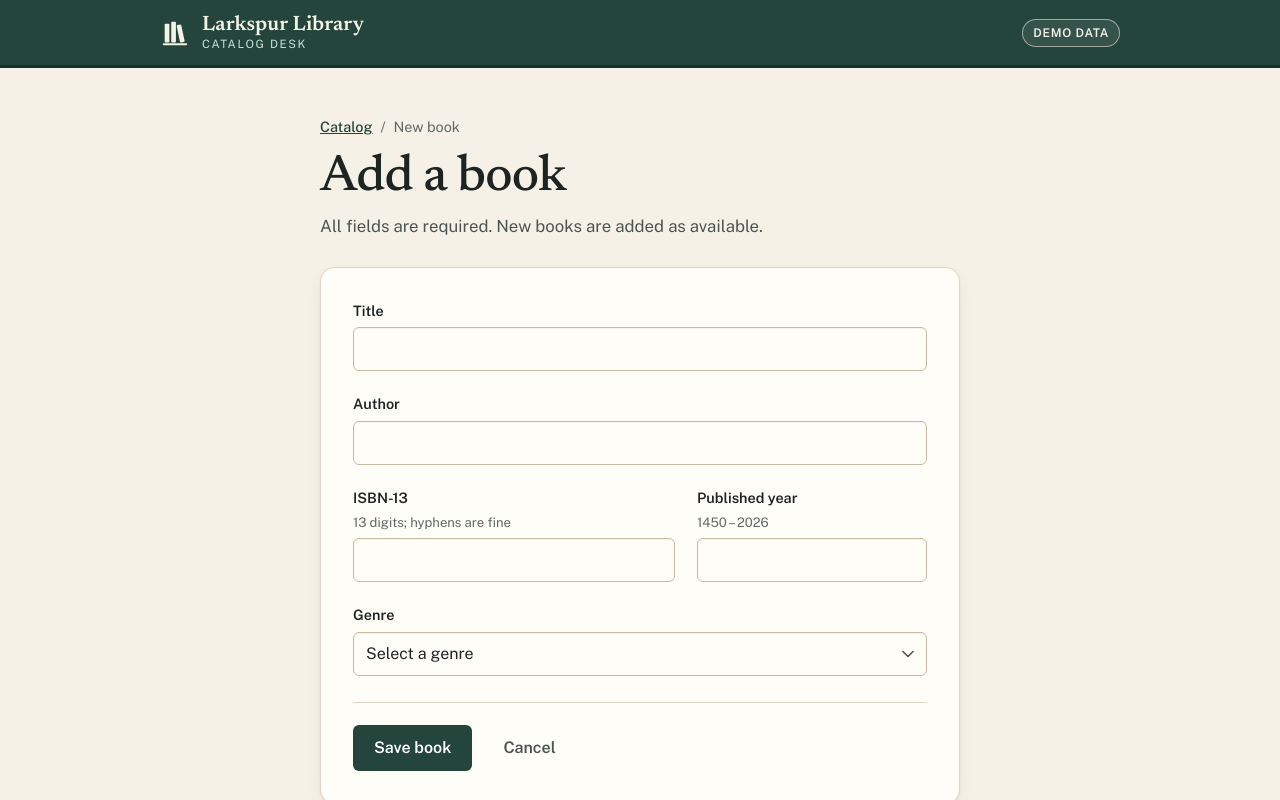
AddBookPage › FE-AC7: shows the duplicate-ISBN message under the ISBN field
The width and height of the screenshot is (1280, 800).
In the field labelled "Title": x=640, y=349 [353,327,927,371], type "Dune"
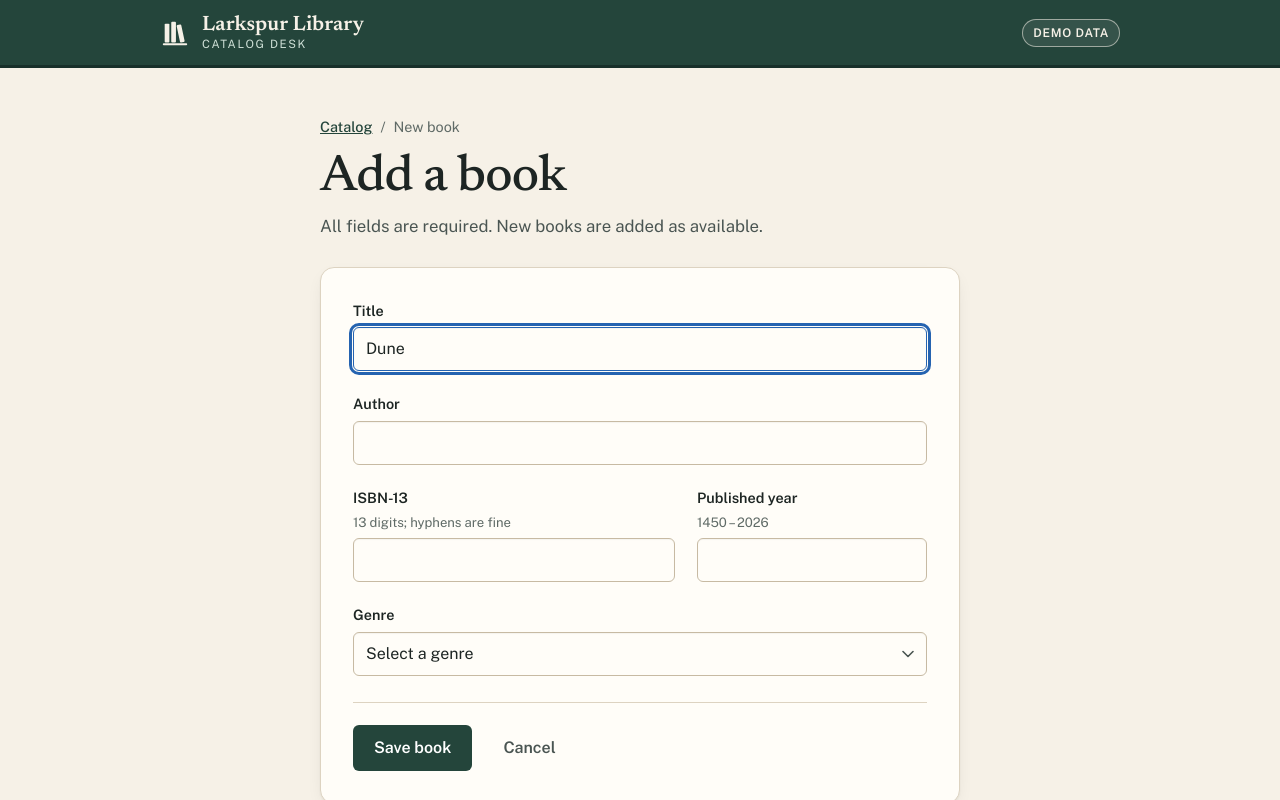
In the field labelled "Author": x=640, y=443 [353,421,927,465], type "Frank Herbert"
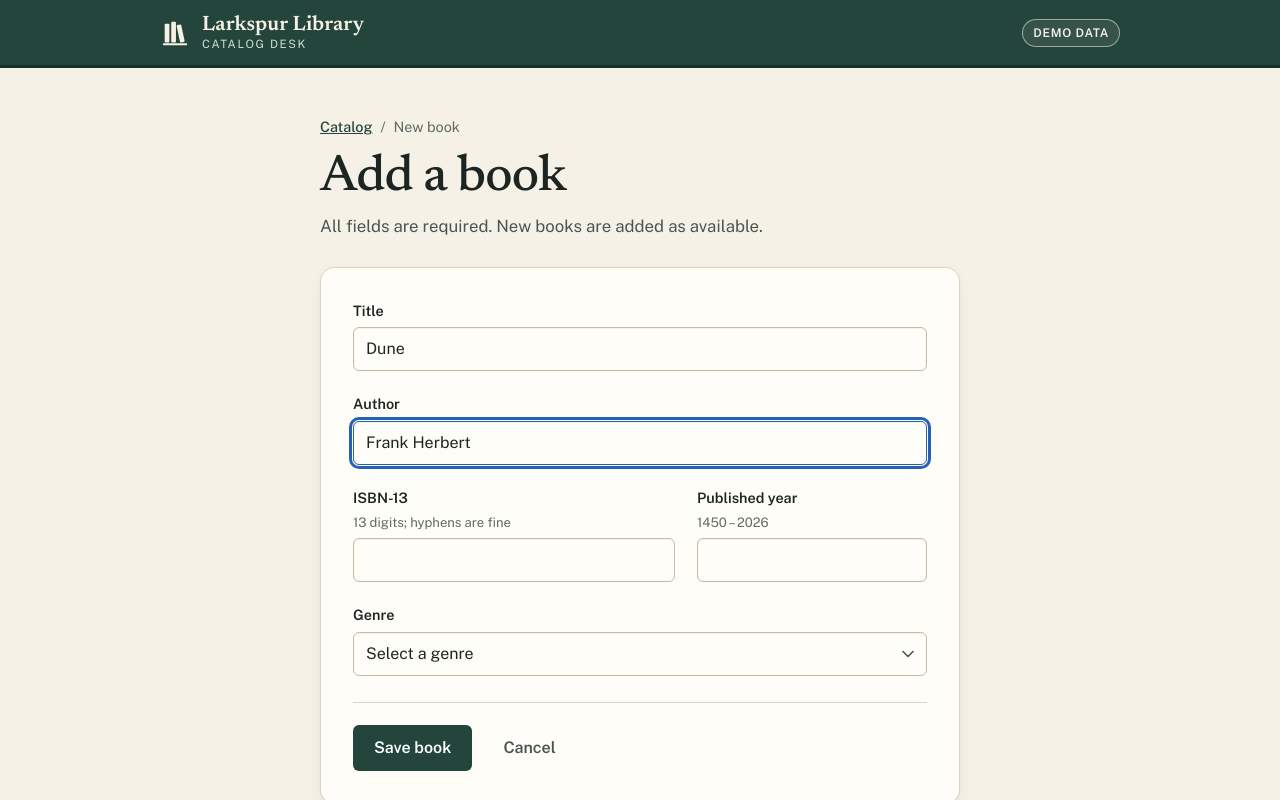
In the field labelled "ISBN-13": x=514, y=560 [353,538,675,582], type "9780061120084"
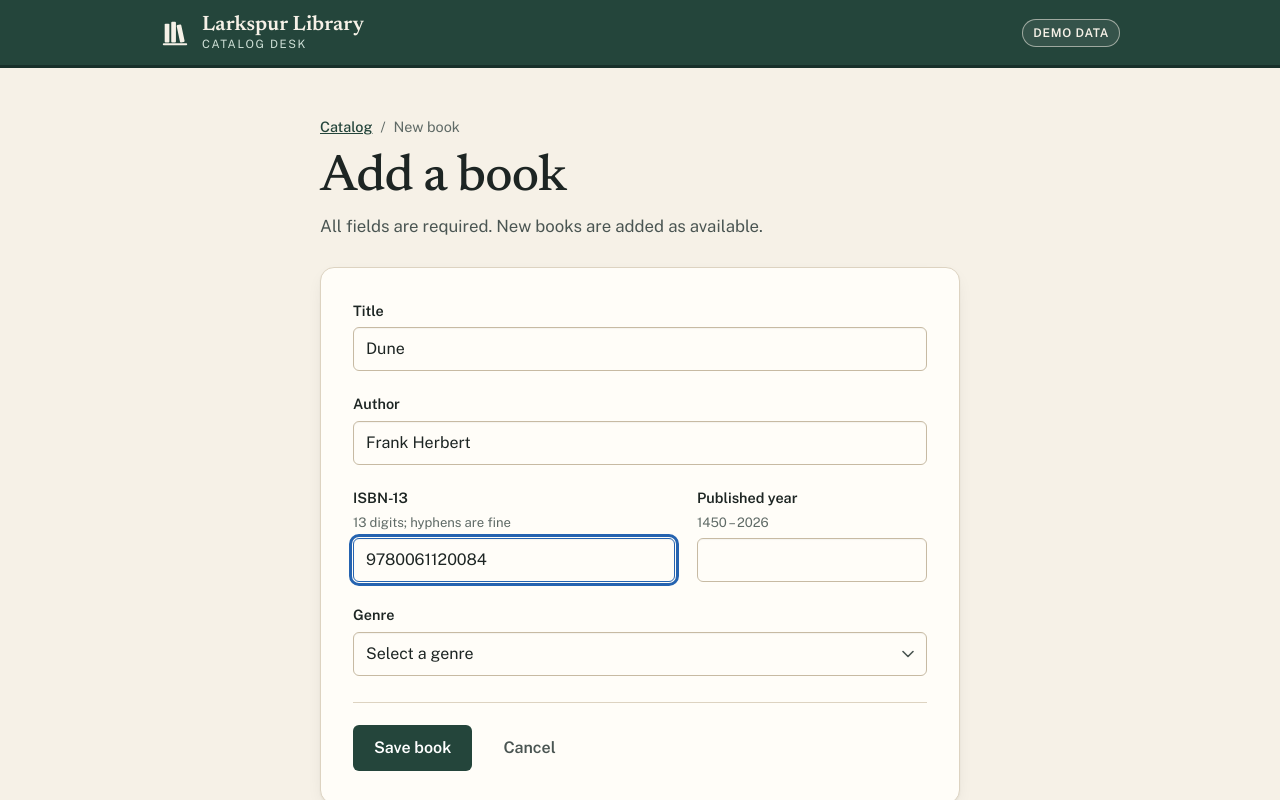
In the field labelled "Published year": x=812, y=560 [697,538,927,582], type "1965"
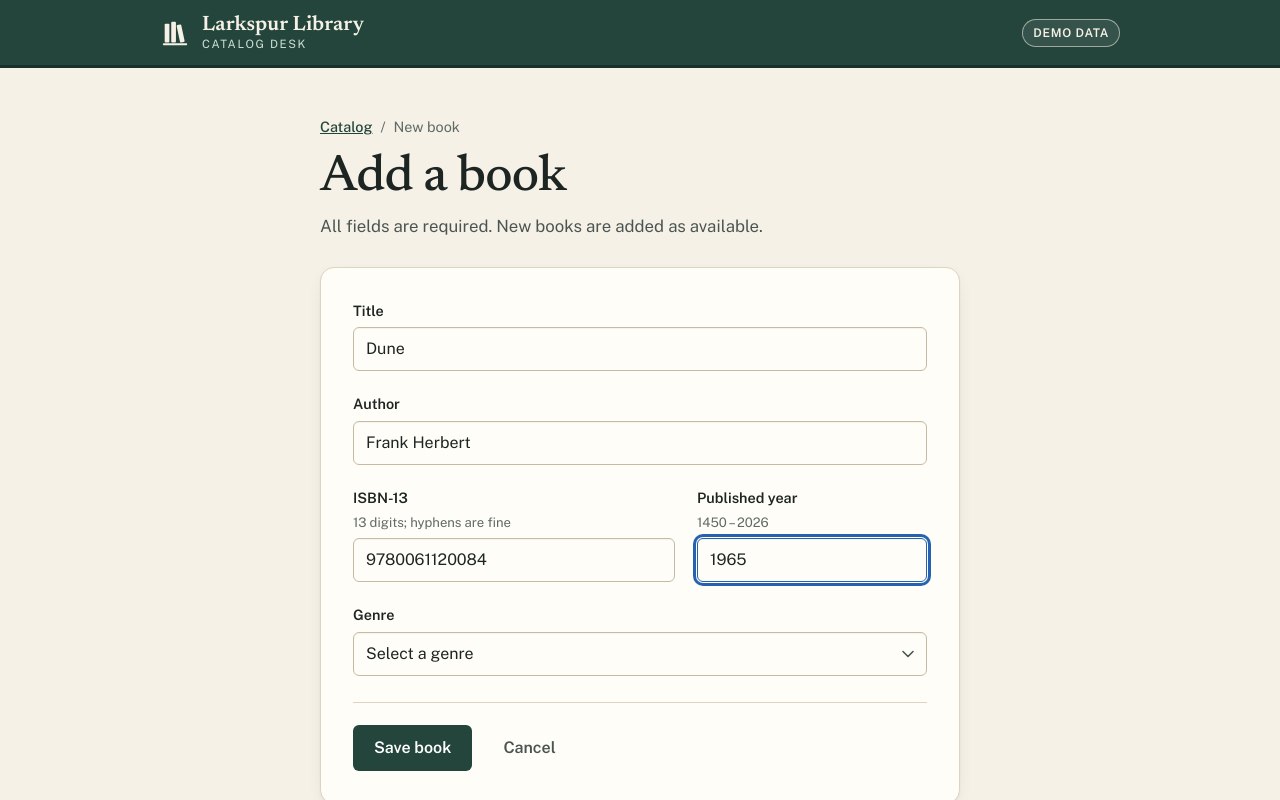
Select "Fiction" in the dropdown labelled "Genre": x=640, y=654 [353,632,927,676]
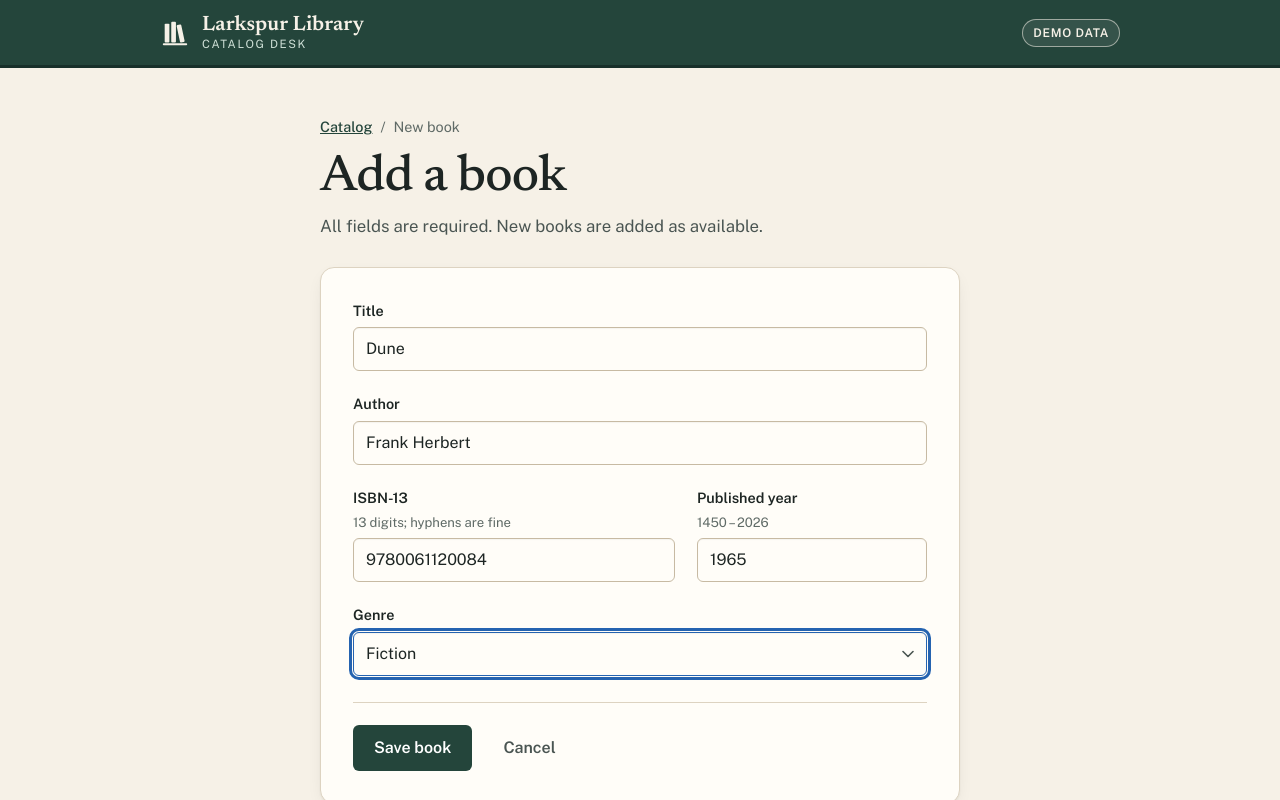
Click the button with test id "save-book": x=413, y=748 [353,725,472,771]
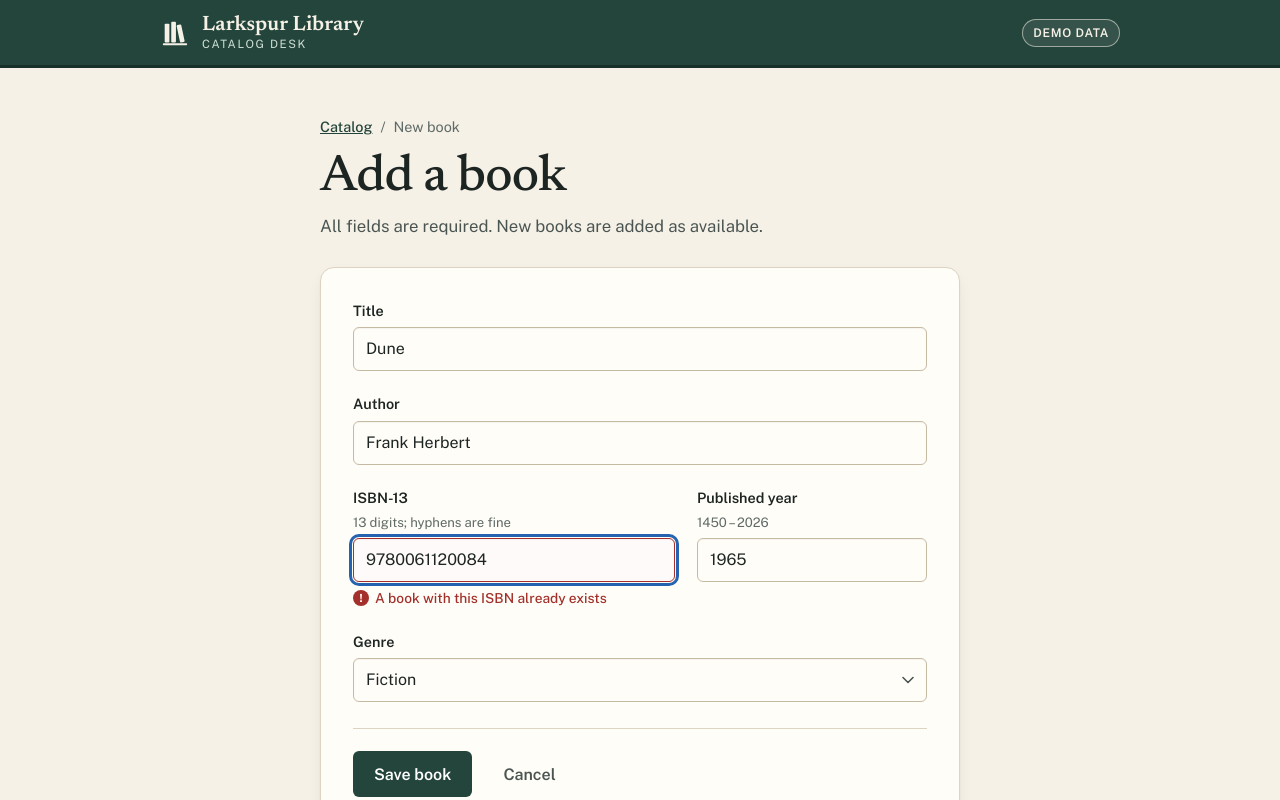
expect the heading "Add a book" is shown: met, box [320,152,566,204]
expect the text with test id "error-isbn" reads "A book with this ISBN already exists": met, box [375,590,607,606]
